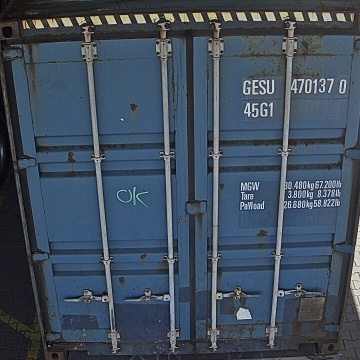serial_id: (243, 78, 347, 94)
